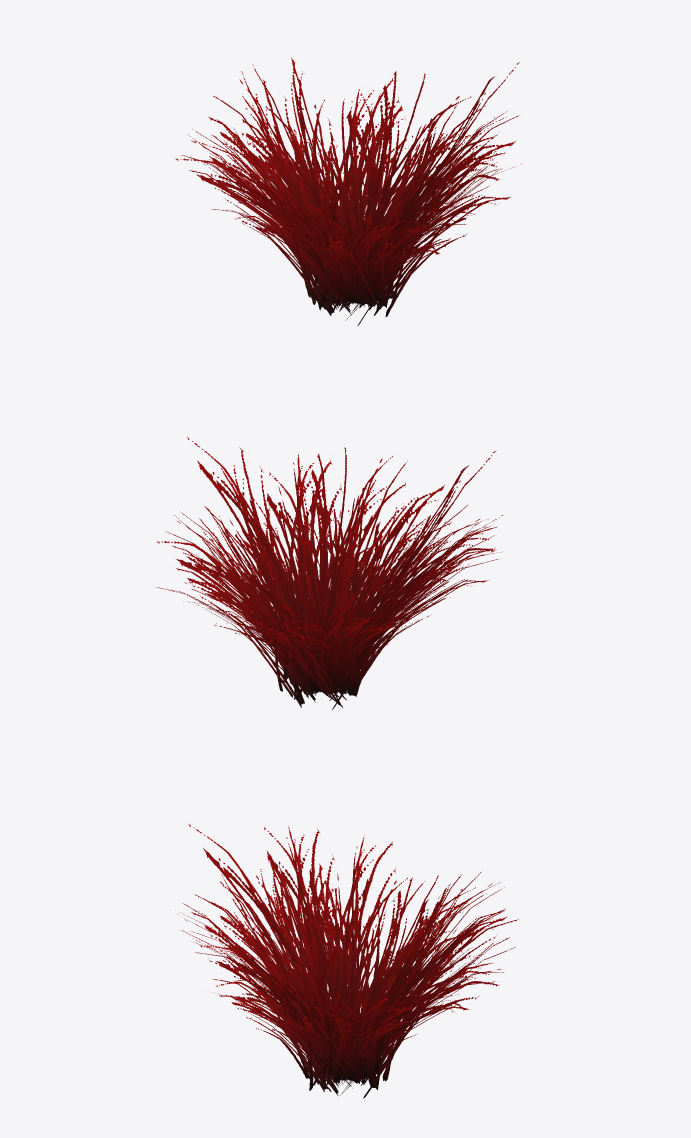
Rendered from bush_savanna_grass_a.glb.
The picture shows the model from 3 angles, top to bottom: view 1: azimuth 30°, elevation 25°; view 2: azimuth 150°, elevation 25°; view 3: azimuth 270°, elevation 25°; orthographic projection. The views are drawn at different scales.
Parts seen in each view (by area): view 1: bush_savanna_grass_a; view 2: bush_savanna_grass_a; view 3: bush_savanna_grass_a.
Part boxes in pixels (box(x1,y1,x2,y2)): bush_savanna_grass_a: box(175, 58, 522, 326); bush_savanna_grass_a: box(156, 437, 502, 709); bush_savanna_grass_a: box(177, 824, 518, 1098).
Bounding box in the file's own units: 2.43 × 1.02 × 2.44.
Materials: 1 (1 with a texture image).
